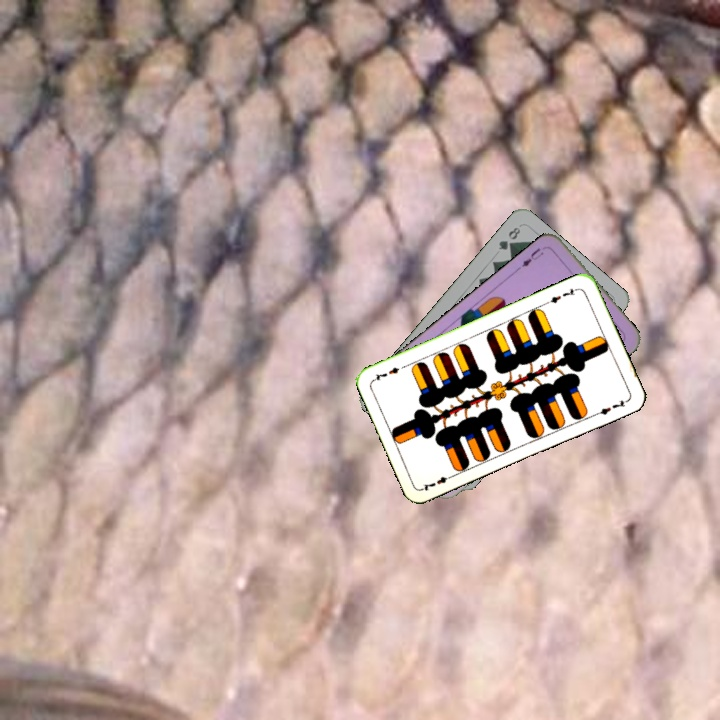E7: (543, 284, 581, 307), (419, 470, 457, 493)
EU: (515, 242, 550, 271)
G8: (494, 223, 523, 253)
